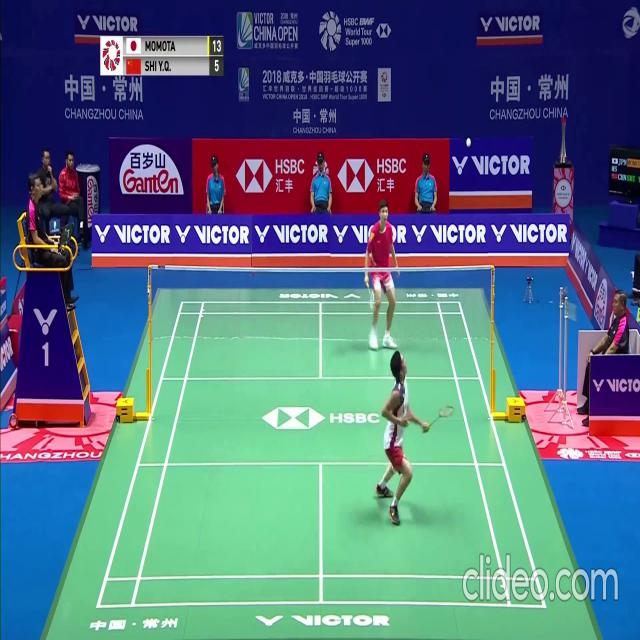Shuttlecock: (466, 137, 471, 145)
